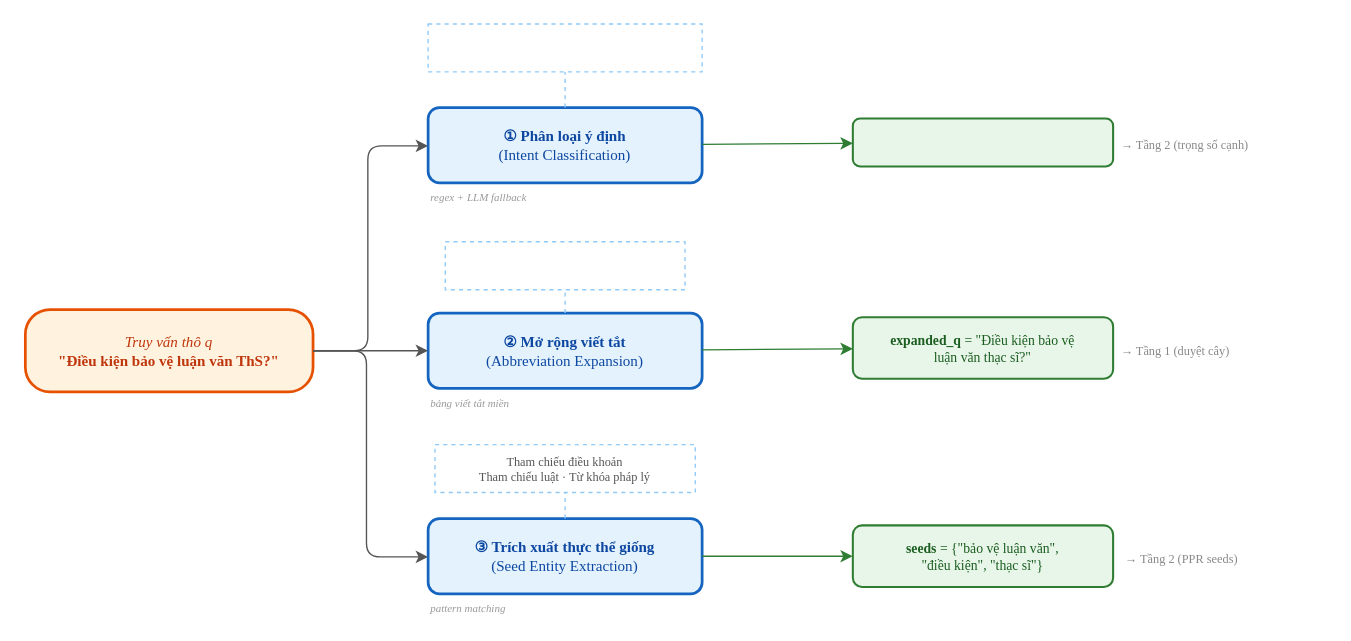
Some shapes in this 1351 by 641 pixel diagram are drawn without their labels. The shapes that lost their labels are listed below. From the top down, each one's centre as x and y in pixels, then its label:
pixel 564 47: Penalty · Definition · Procedure Requirement · Reference · General
pixel 982 142: intent = Requirement
pixel 564 265: ThS → thạc sĩ CTCP → công ty cổ phần
